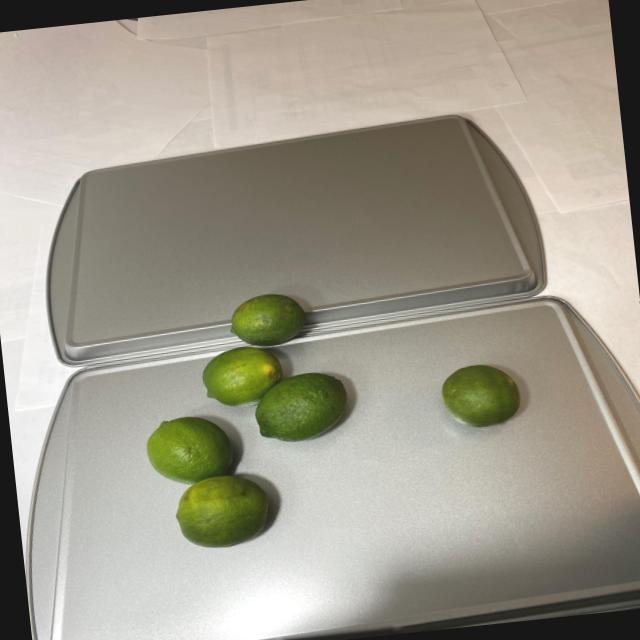lemon: (130, 279, 374, 562), (438, 358, 527, 436)
